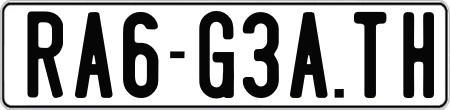3: (243, 11, 280, 101)
6: (122, 11, 162, 103)
A: (288, 9, 330, 98), (72, 12, 111, 100)
G: (196, 8, 232, 99)
H: (402, 12, 431, 104)
R: (24, 11, 61, 99)
T: (353, 9, 388, 99)
